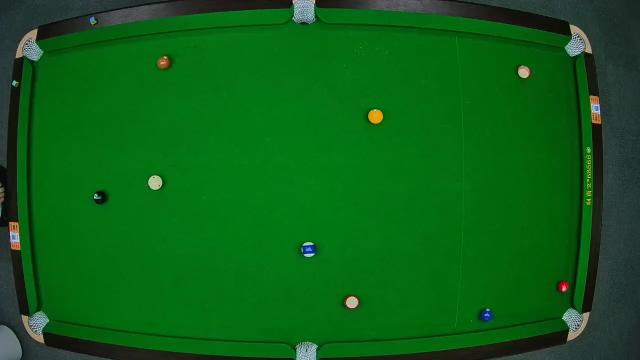bag1: (19, 36, 45, 64)
bag2: (292, 0, 316, 26)
bag3: (563, 30, 589, 57)
bag4: (25, 309, 51, 339)
bag5: (294, 340, 318, 360)
bag6: (560, 306, 586, 334)
ball0: (148, 175, 164, 191)
ball1: (368, 108, 384, 126)
ball10: (300, 241, 318, 259)
ball11: (342, 294, 360, 310)
ball12: (516, 64, 532, 80)
ball2: (478, 307, 494, 323)
ball3: (556, 279, 570, 295)
ball7: (156, 55, 172, 71)
ball8: (93, 189, 109, 205)
